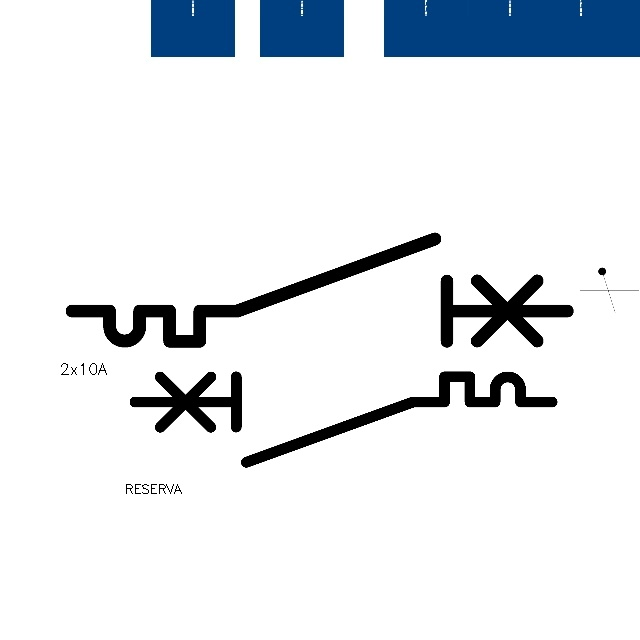interruptor_termomagnetico: (59, 226, 580, 354), (124, 366, 563, 473)
